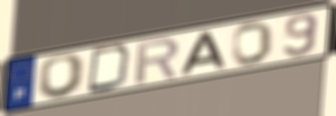9: (282, 13, 320, 58)
A: (178, 31, 228, 77)
D: (85, 44, 134, 95)
O: (35, 53, 89, 101), (231, 20, 275, 67)
R: (133, 36, 182, 86)
